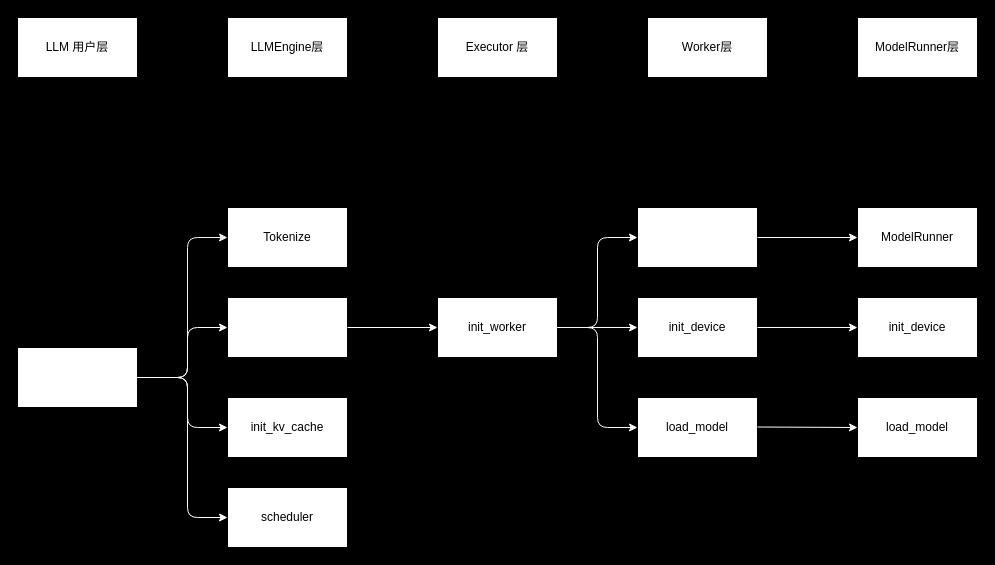
The diagram is 995 pixels wide and 565 high, and some of its shapes have lost their labels. Here are the shapes that lost their labels. From the top down, the centre of each, then its label:
At point 697,237: "create_worker".
At point 287,327: "model_executer".
At point 77,377: "LLMEngine".
